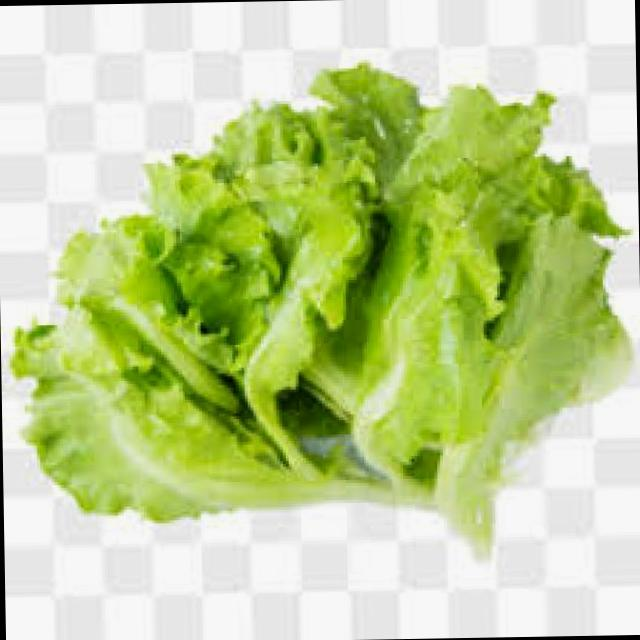Lettuce-Ready-to-Harvest: (12, 65, 628, 545)
